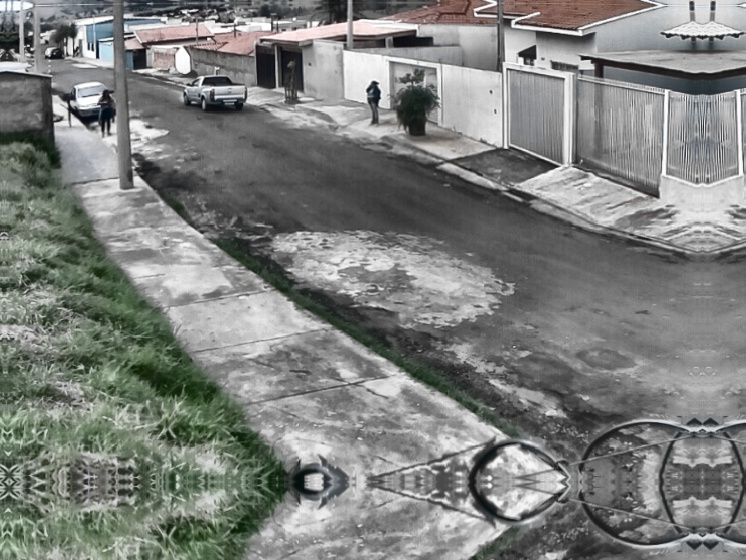person: (96, 89, 117, 140), (364, 80, 382, 130)
